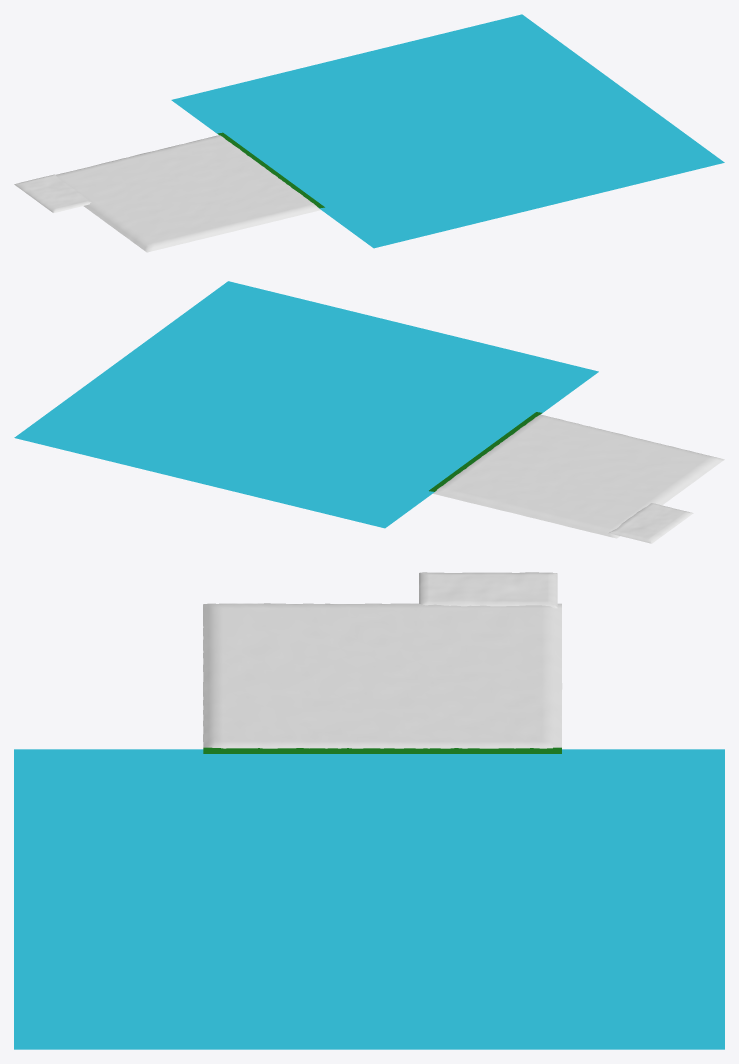
File: ground.fbx
3 renders of one model, top to bottom at view 1: azimuth 30°, elevation 25°; view 2: azimuth 150°, elevation 25°; view 3: azimuth 270°, elevation 25°, orthographic. The views are drawn at different scales.
Visible parts, largest first — view 1: water, play_area.001, village_grounds, Plane.012; view 2: water, play_area.001, village_grounds, Plane.012; view 3: water, play_area.001, village_grounds, Plane.012.
Boxes of the visible parts, box(x1,y1,x2,y2) form: water: box(171, 14, 724, 248); play_area.001: box(56, 135, 320, 252); village_grounds: box(14, 174, 91, 212); Plane.012: box(217, 132, 324, 208); water: box(14, 281, 598, 528); play_area.001: box(433, 414, 724, 538); village_grounds: box(608, 503, 693, 543); Plane.012: box(429, 412, 541, 491); water: box(14, 749, 724, 1049); play_area.001: box(203, 603, 562, 748); village_grounds: box(419, 572, 557, 608); Plane.012: box(203, 747, 561, 753).
Size of the model in its own units: 83808 by 2746 by 52932.
